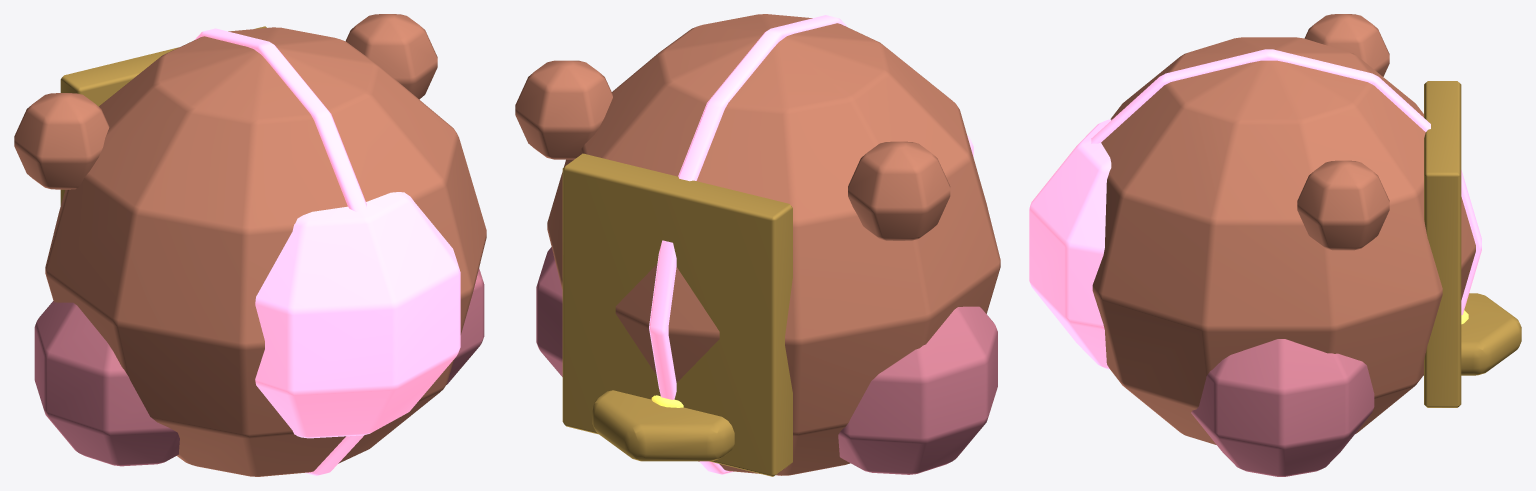
The model's file is pith_sinew_deep_pulse_sac.glb.
3 views of the same model, side by side, from view 1: azimuth 30°, elevation 25°; view 2: azimuth 150°, elevation 25°; view 3: azimuth 270°, elevation 25° (orthographic). The views are drawn at different scales.
Parts seen in each view (by area): view 1: pith_sinew_deep_pulse_sac; view 2: pith_sinew_deep_pulse_sac; view 3: pith_sinew_deep_pulse_sac.
Part boxes in pixels (x1,y1,x2,y2): pith_sinew_deep_pulse_sac: (14,14,486,476); pith_sinew_deep_pulse_sac: (515,14,1000,476); pith_sinew_deep_pulse_sac: (1029,14,1521,476).
Size of the model in its own units: 0.7397 by 0.6869 by 0.7944.
Materials: 1 (1 with a texture image).
